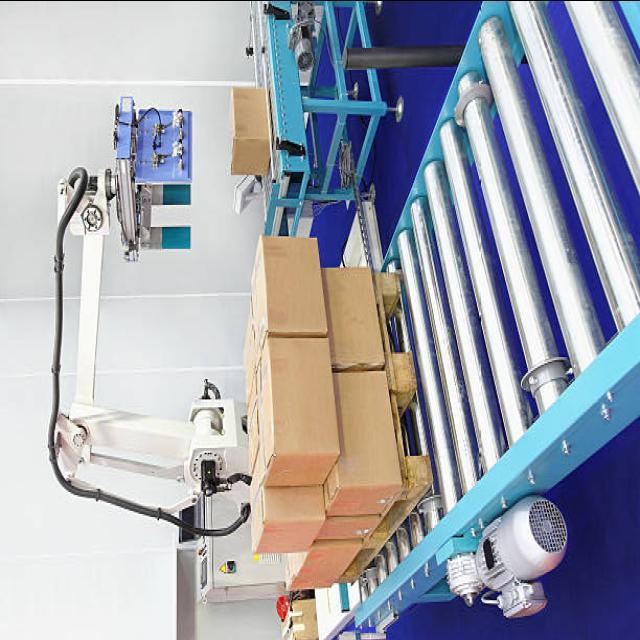Robotic-arm: (38, 90, 252, 528)
